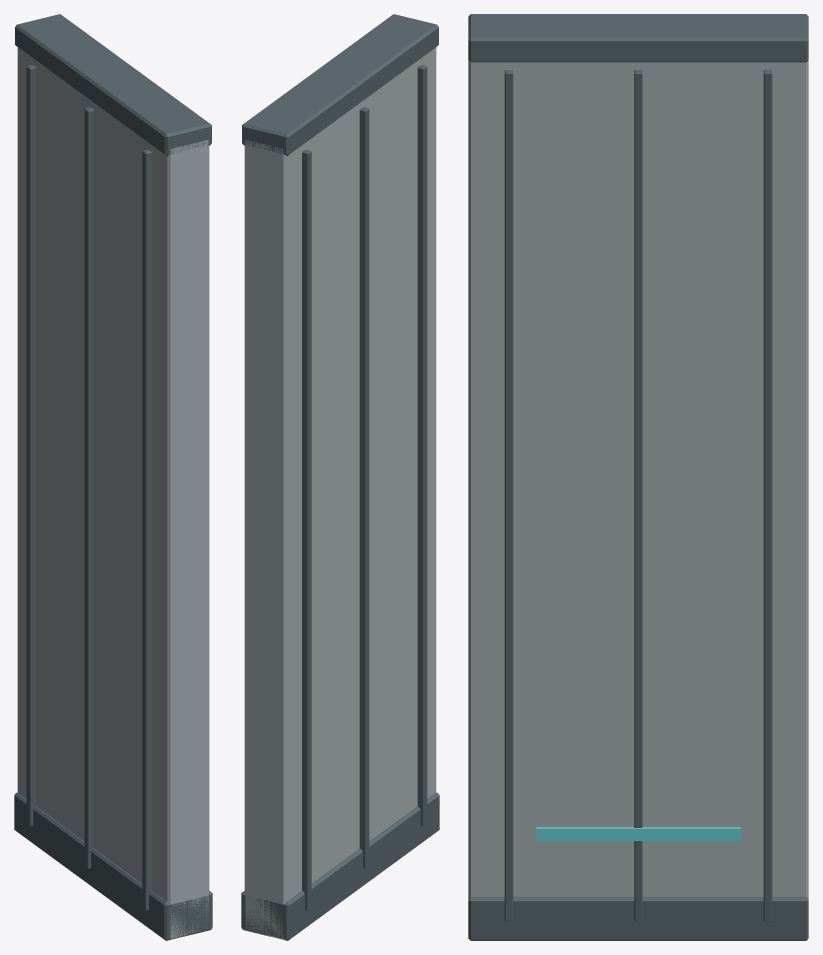
File: metal-wall.glb
The picture shows the model from 3 angles, left to right: view 1: azimuth 30°, elevation 25°; view 2: azimuth 150°, elevation 25°; view 3: azimuth 270°, elevation 25°; orthographic projection. The views are drawn at different scales.
Parts seen in each view (by area): view 1: Structural wall.003, Top coping.003; view 2: Structural wall.003, Top coping.003; view 3: Structural wall.003, Top coping.003, Cyan service marking.001.
Boxes of the visible parts, x1,y1,x2,y2 form: Structural wall.003: (17,47,209,939); Top coping.003: (14,14,212,940); Structural wall.003: (244,47,436,939); Top coping.003: (241,14,439,940); Structural wall.003: (468,60,808,897); Top coping.003: (468,14,808,940); Cyan service marking.001: (536,827,740,840).
Size of the model in its own units: 0.212 by 2.93 by 1.
